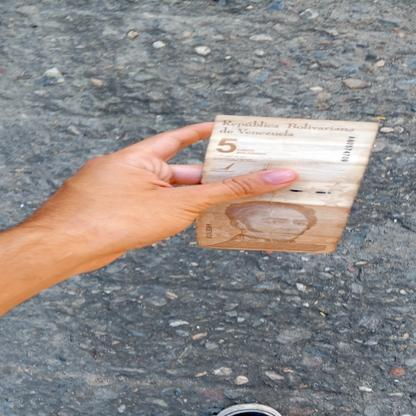five-front-vef: (194, 114, 378, 254)
